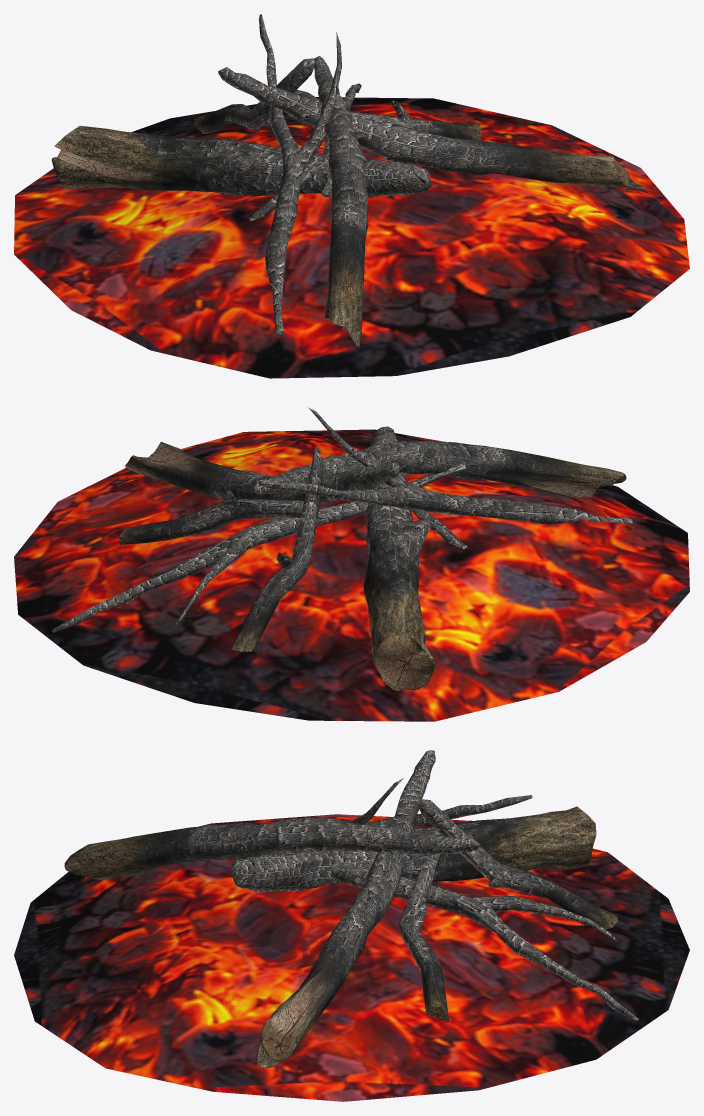
The model's file is SicleFire.FBX.
3 views of the same model, one above another, from view 1: azimuth 30°, elevation 25°; view 2: azimuth 150°, elevation 25°; view 3: azimuth 270°, elevation 25° (orthographic). The views are drawn at different scales.
Parts seen in each view (by area): view 1: Ugly_Zola, Woods; view 2: Ugly_Zola, Woods; view 3: Ugly_Zola, Woods.
Boxes of the visible parts, <box> form: Ugly_Zola: <box>14,97,689,378</box>; Woods: <box>51,14,646,346</box>; Ugly_Zola: <box>14,429,689,721</box>; Woods: <box>52,407,632,690</box>; Ugly_Zola: <box>14,814,689,1101</box>; Woods: <box>64,750,638,1068</box>.
Bounding box in the file's own units: 3.47 × 1.05 × 3.45.
2 materials, 2 textured.
